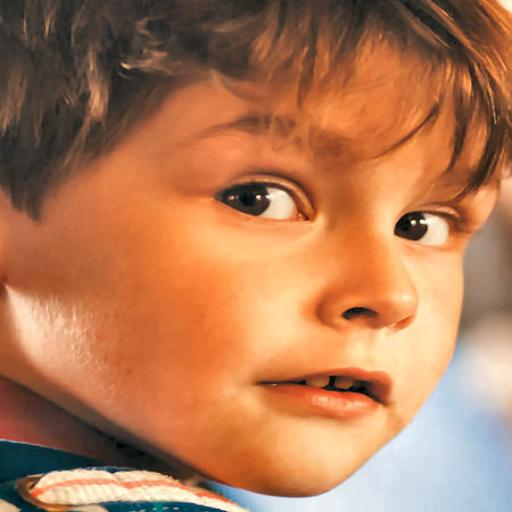Autism: (8, 10, 512, 481)
